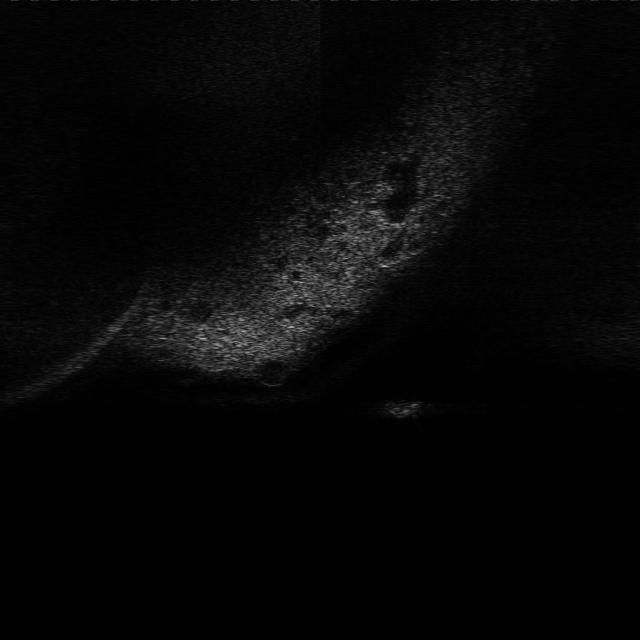cube: (384, 388, 434, 424)
